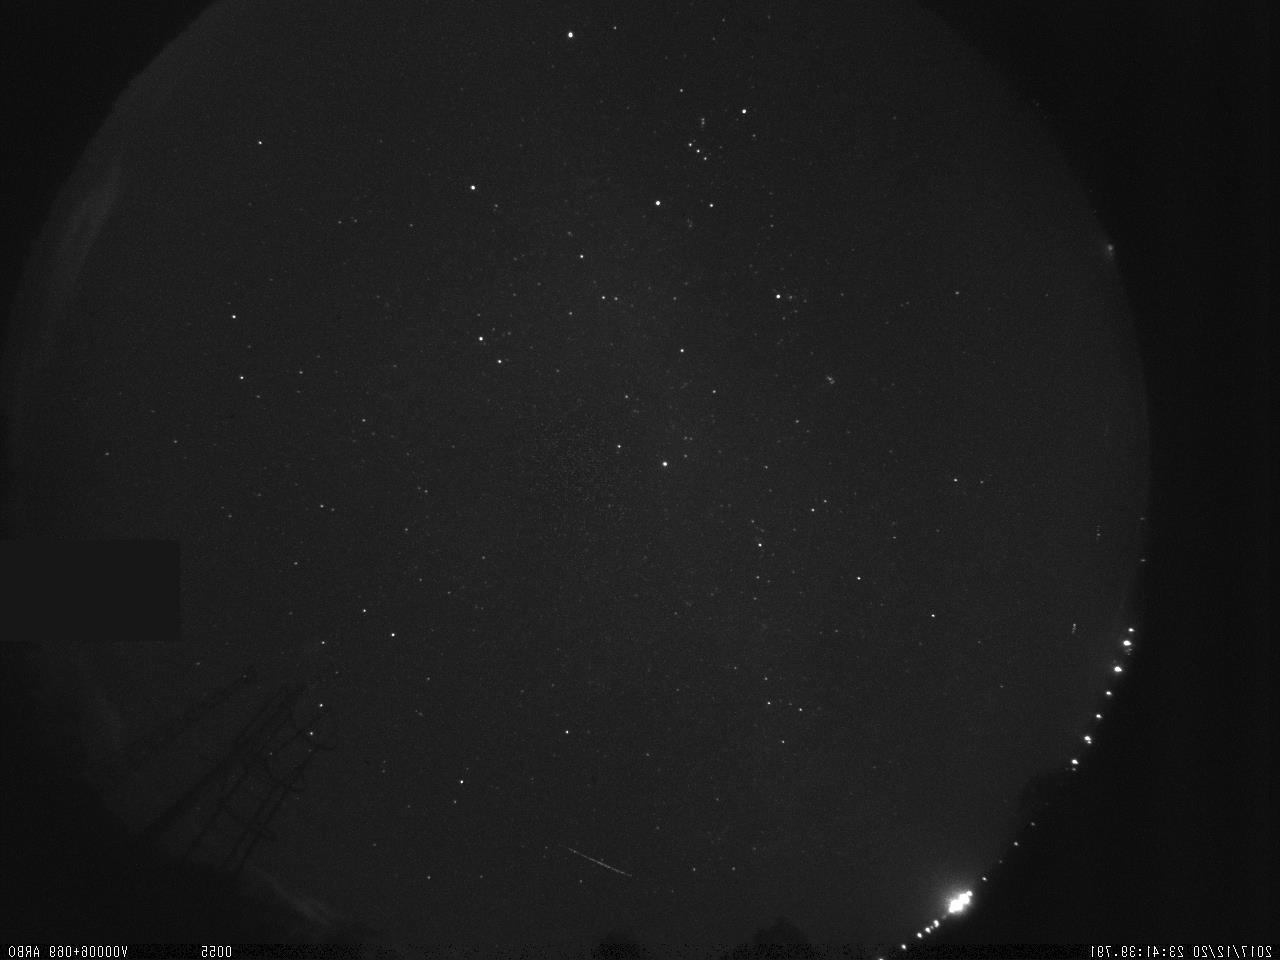meteor: (557, 840, 649, 887)
